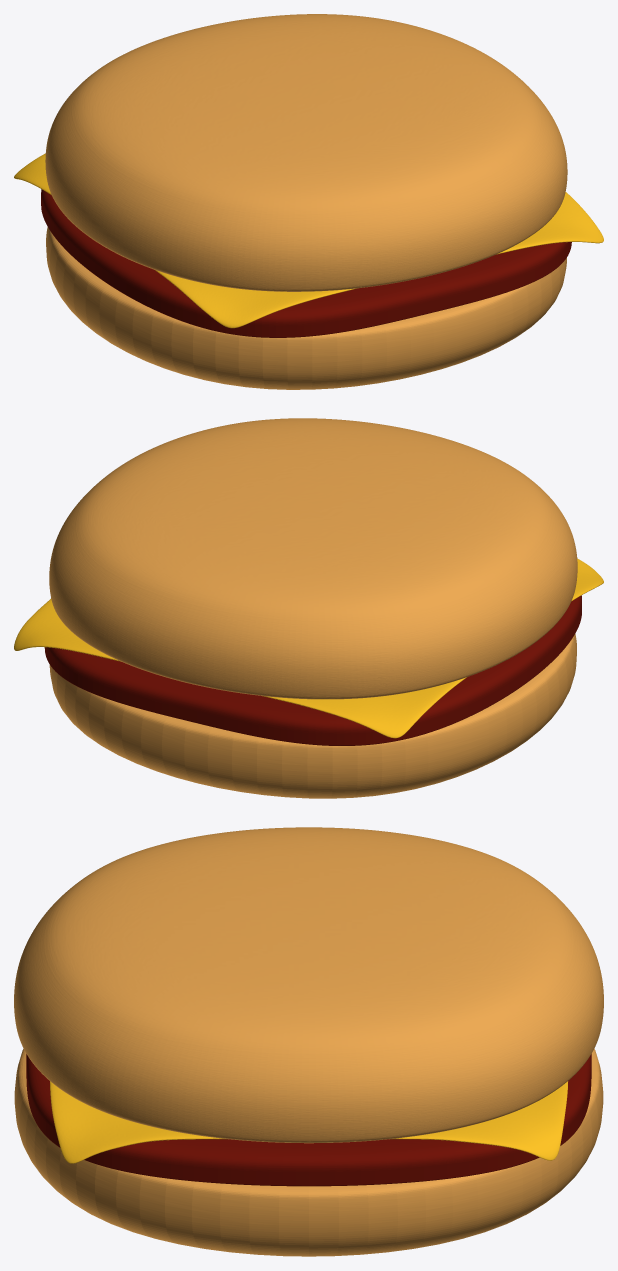
File: hamburger.glb
3 renders of one model, top to bottom at view 1: azimuth 30°, elevation 25°; view 2: azimuth 150°, elevation 25°; view 3: azimuth 270°, elevation 25°, orthographic. The views are drawn at different scales.
Visible parts, largest first — view 1: Cube.002, Cube, Cube.001, Plane; view 2: Cube.002, Cube, Cube.001, Plane; view 3: Cube.002, Cube, Cube.001, Plane.
Part boxes in pixels (bbox=[...]): Cube.002: bbox=[45, 14, 567, 291]; Cube: bbox=[46, 227, 566, 389]; Cube.001: bbox=[41, 189, 571, 337]; Plane: bbox=[14, 153, 603, 328]; Cube.002: bbox=[49, 418, 577, 699]; Cube: bbox=[49, 634, 576, 798]; Cube.001: bbox=[44, 595, 581, 745]; Plane: bbox=[14, 558, 603, 738]; Cube.002: bbox=[14, 827, 603, 1143]; Cube: bbox=[14, 1049, 603, 1256]; Cube.001: bbox=[26, 1054, 591, 1186]; Plane: bbox=[50, 1081, 568, 1163].
Size of the model in its own units: 8.93 by 4.38 by 8.93.
